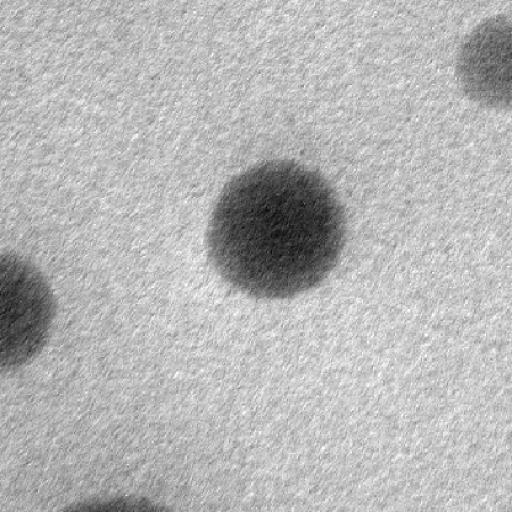Nanoparticles: (204, 153, 352, 307), (0, 248, 60, 382), (456, 16, 512, 112), (64, 493, 172, 511)
